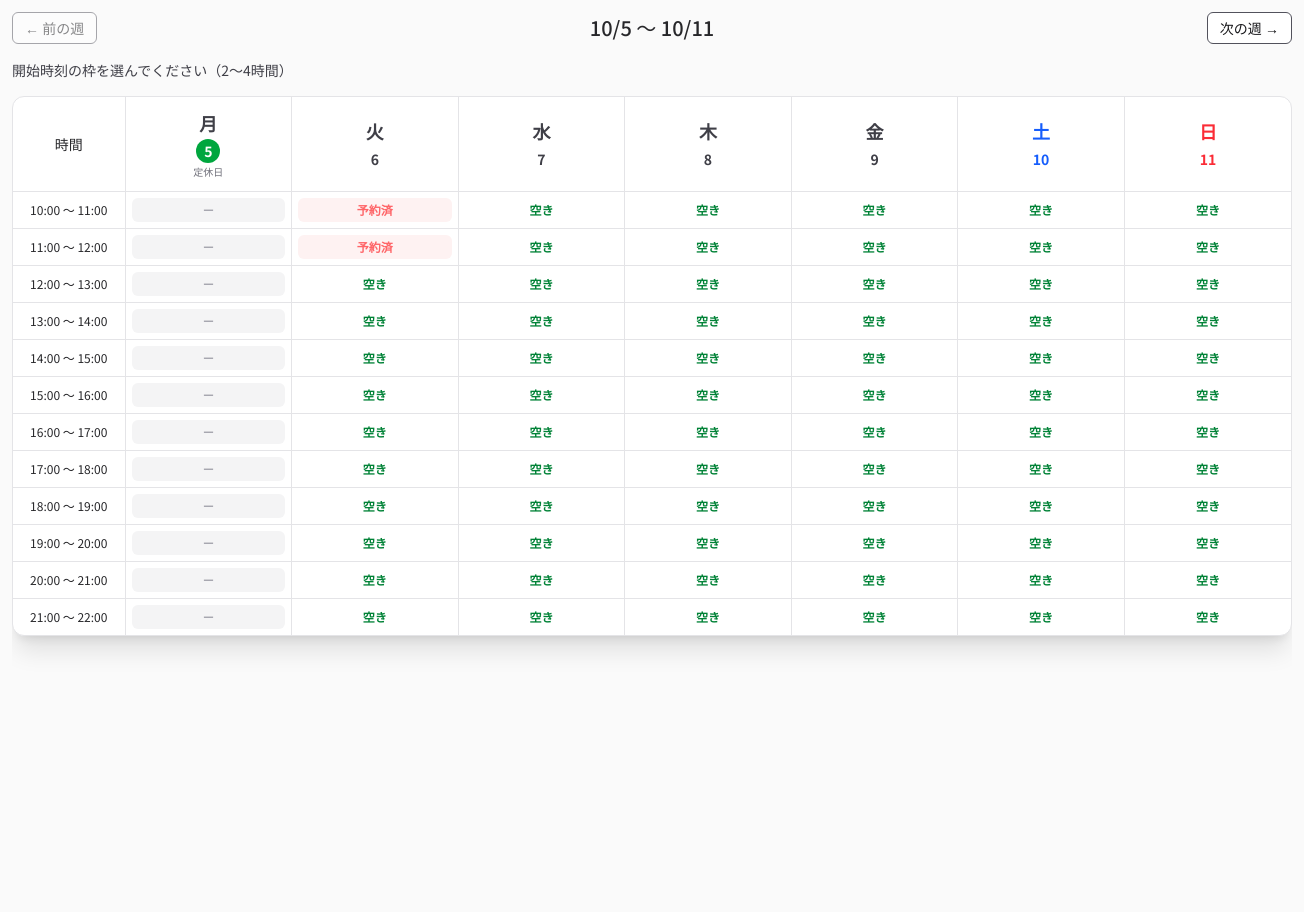
it: 週送り › 予約できる最終日を含む週より先には進めない
This screenshot has width=1304, height=912.
Click the button "次の週 →" at (1249, 28), box [1207,12,1292,44]
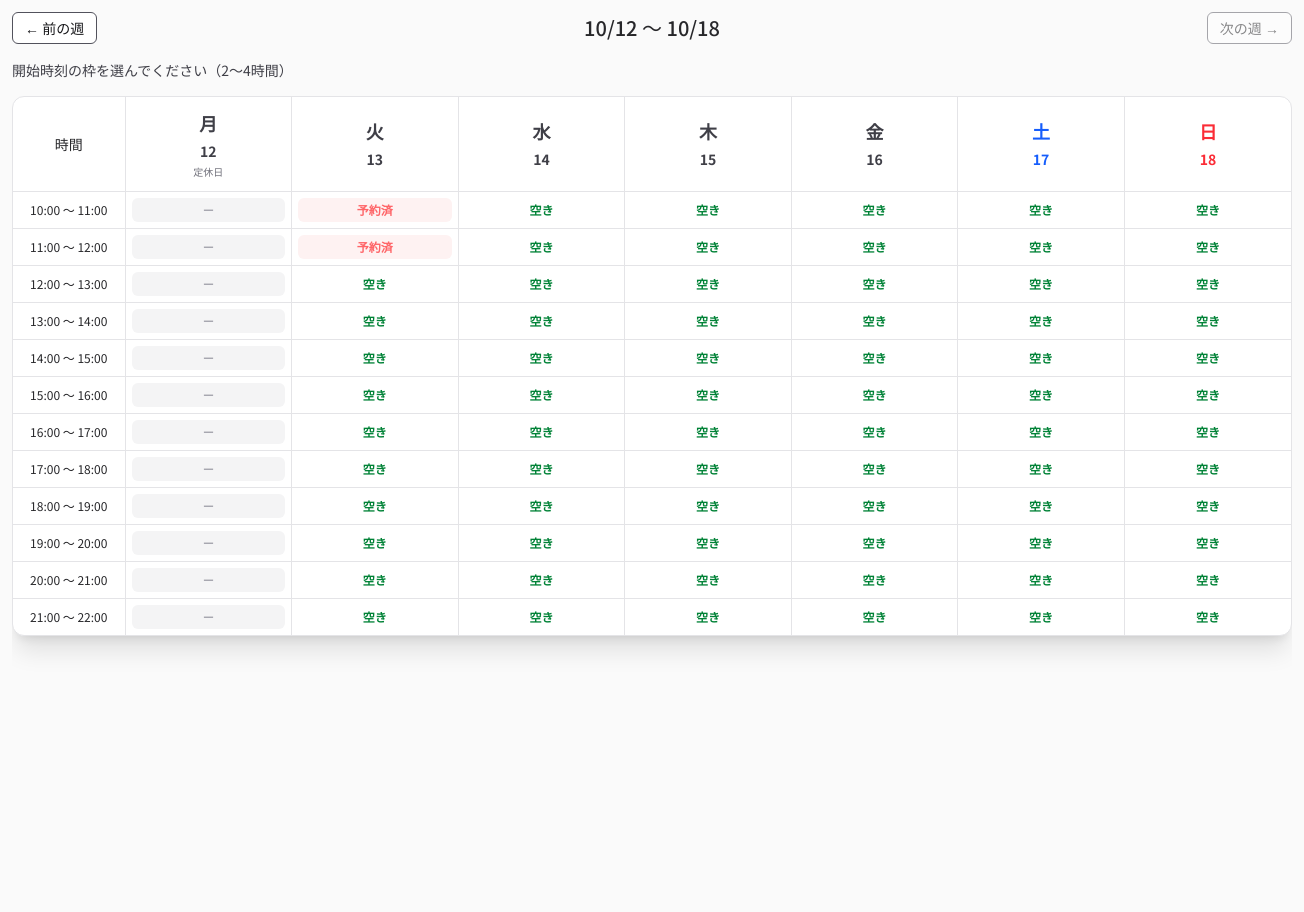
Expected: the button with aria-label "10月13日（火） 10:00 〜 11:00 予約済み" is shown, [298,198,452,222]
Now the button "次の週 →" is disabled, box [1207,12,1292,44]
